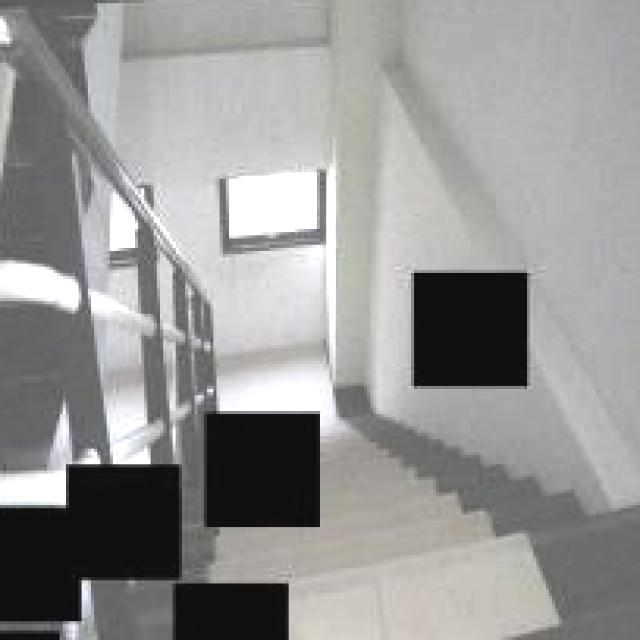downstair: (333, 443, 640, 640)
